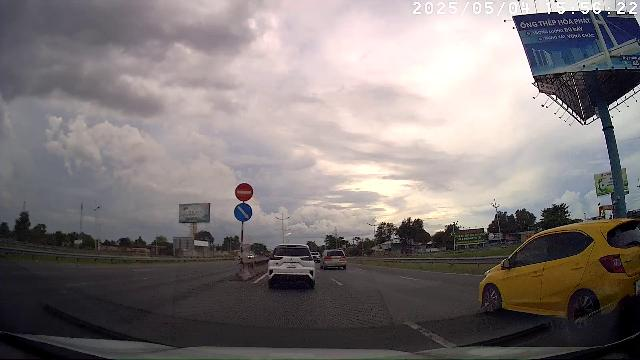102-cam-di-nguoc-chieu: (235, 182, 254, 201)
302a-huong-phai-di-vong-chuong-ngai-vat-1: (234, 202, 253, 222)
